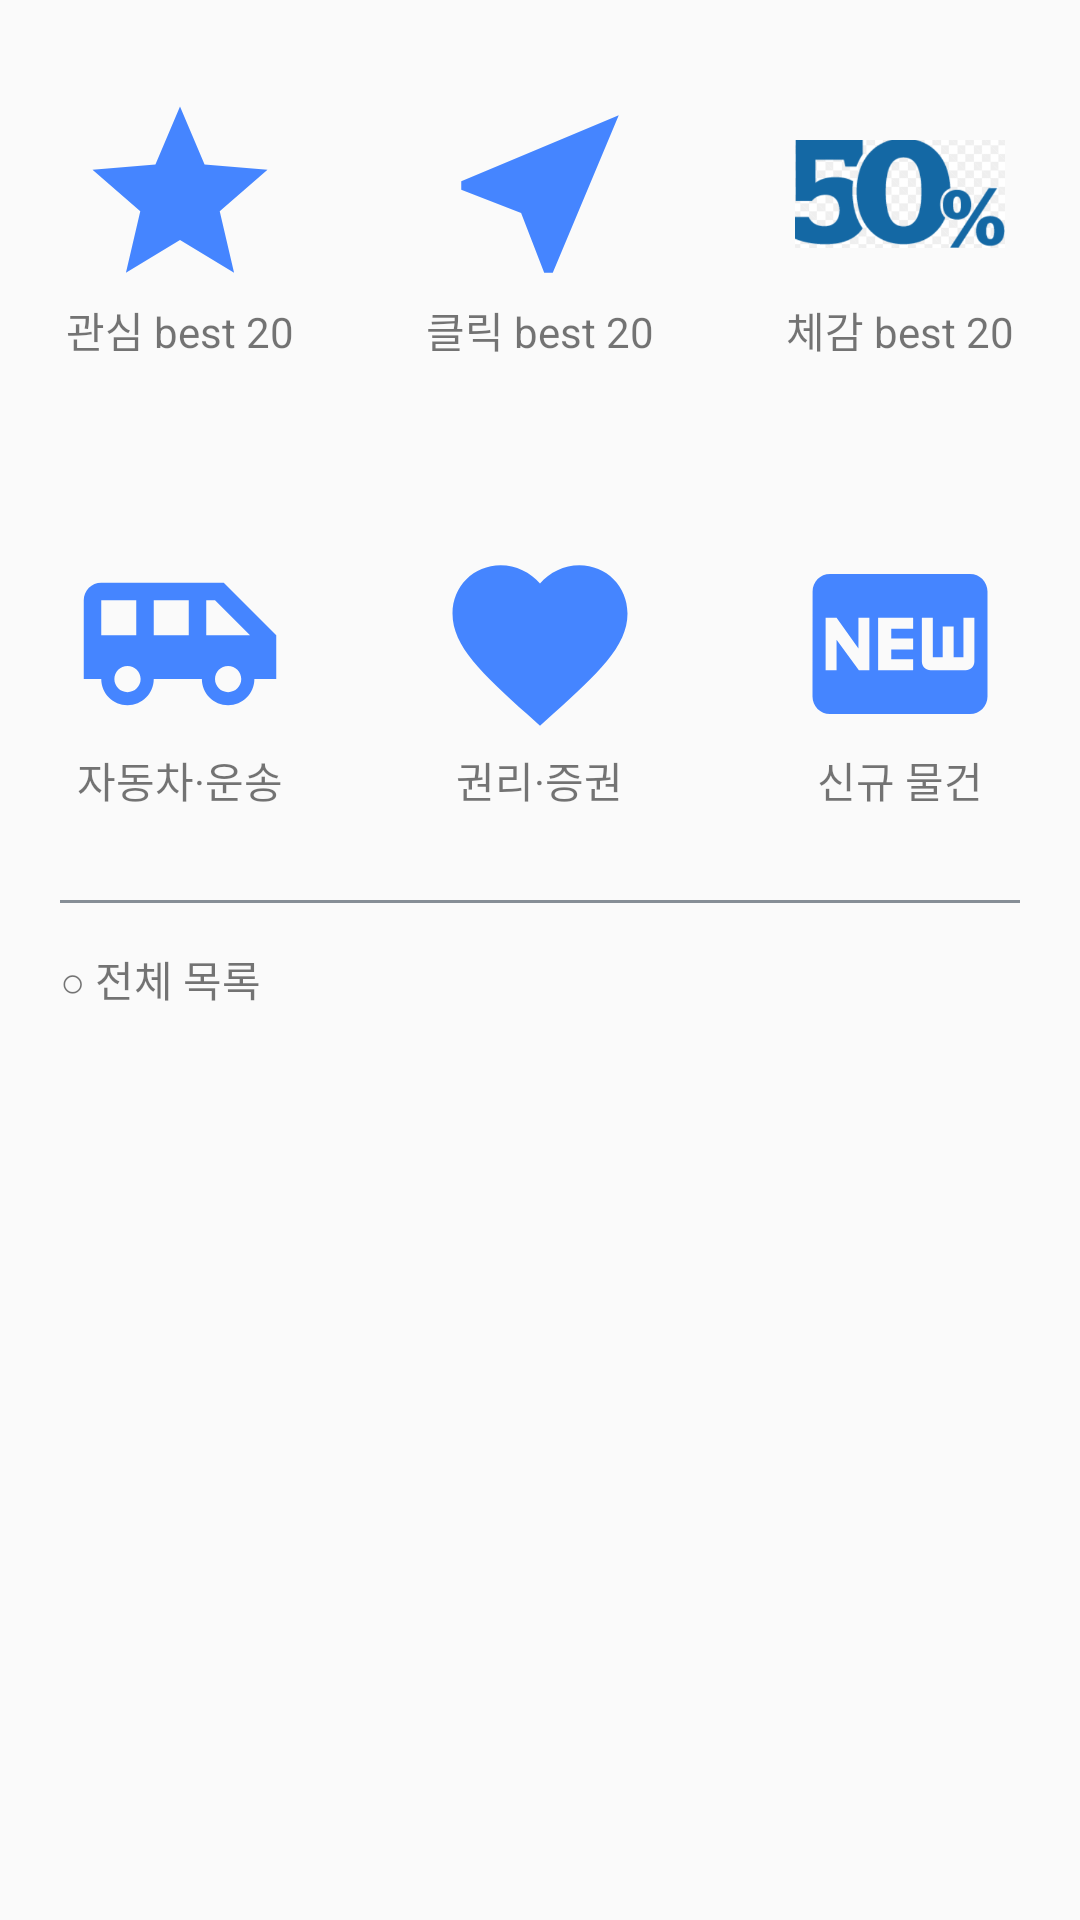

Icons on this 1080px x 1920px Android screen, each with its box as bbox(x1, y1, x2, y2):
airport shuttle: bbox(83, 582, 277, 706)
near me: bbox(461, 115, 619, 273)
star: bbox(93, 107, 267, 273)
